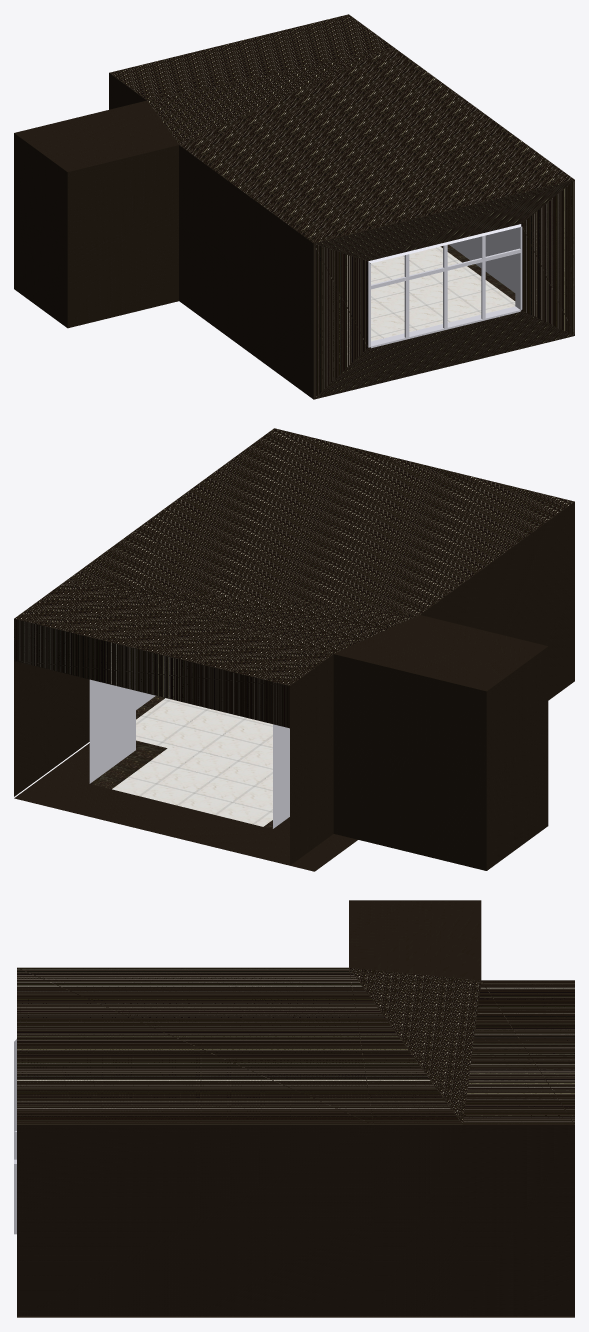
The model's file is Room02.FBX.
The picture shows the model from 3 angles, top to bottom: view 1: azimuth 30°, elevation 25°; view 2: azimuth 150°, elevation 25°; view 3: azimuth 270°, elevation 25°; orthographic projection. The views are drawn at different scales.
Visible parts, largest first — view 1: Room02; view 2: Room02; view 3: Room02.
Part boxes in pixels (bbox=[...]): Room02: bbox=[14, 14, 574, 399]; Room02: bbox=[14, 428, 574, 871]; Room02: bbox=[14, 900, 574, 1317].
Size of the model in its own units: 1803 by 1905 by 722.
